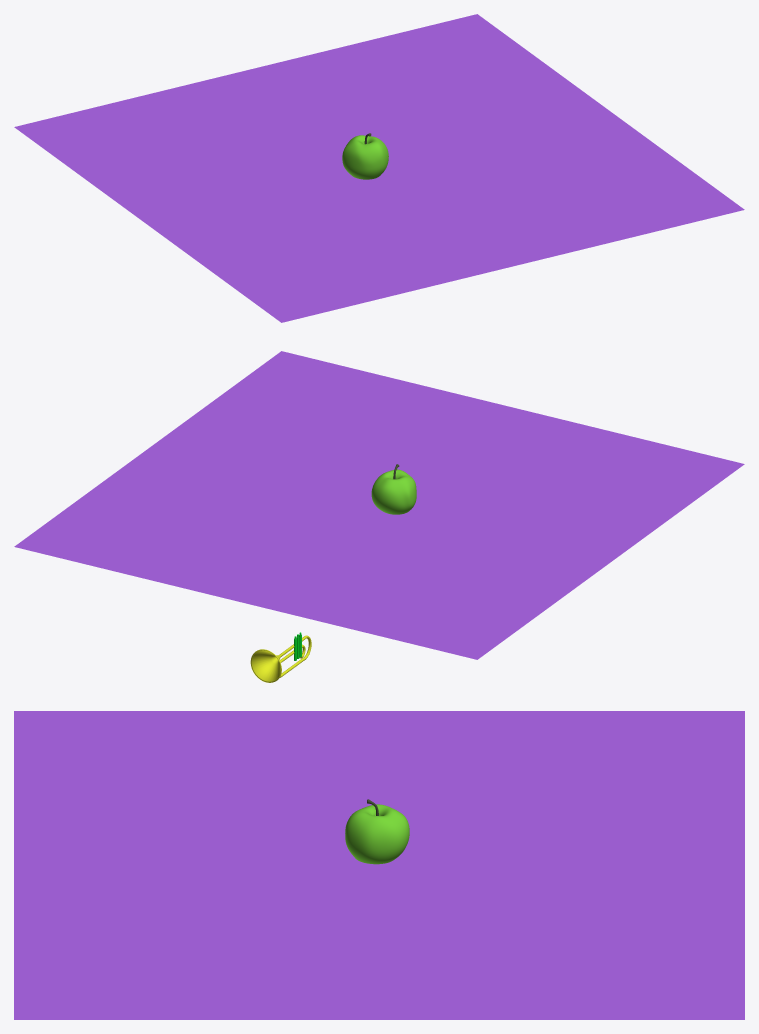
Rendered from uploads_files_3217825_apple.fbx.
3 views of the same model, one above another, from view 1: azimuth 30°, elevation 25°; view 2: azimuth 150°, elevation 25°; view 3: azimuth 270°, elevation 25° (orthographic). The views are drawn at different scales.
Parts seen in each view (by area): view 1: Plane, apple; view 2: Plane, apple, Circle; view 3: Plane, apple.
Part boxes in pixels (x1,y1,x2,y2): Plane: [14, 14, 744, 322]; apple: [342, 135, 388, 179]; Plane: [14, 351, 744, 659]; apple: [371, 469, 416, 514]; Circle: [250, 635, 311, 682]; Plane: [14, 711, 744, 1019]; apple: [345, 804, 409, 864].
Size of the model in its own units: 2958 by 812 by 2958.
